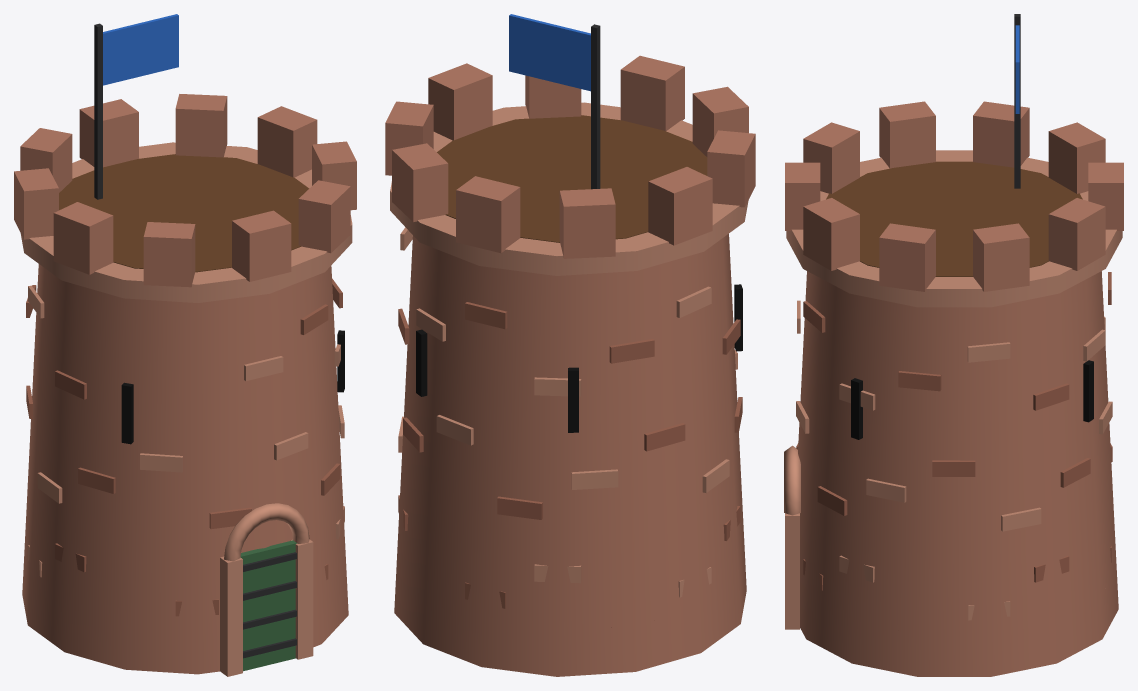
Rendered from wehrturm.glb.
The picture shows the model from 3 angles, left to right: view 1: azimuth 30°, elevation 25°; view 2: azimuth 150°, elevation 25°; view 3: azimuth 270°, elevation 25°; orthographic projection. The views are drawn at different scales.
Size of the model in its own units: 2.67 by 4.95 by 2.69.
